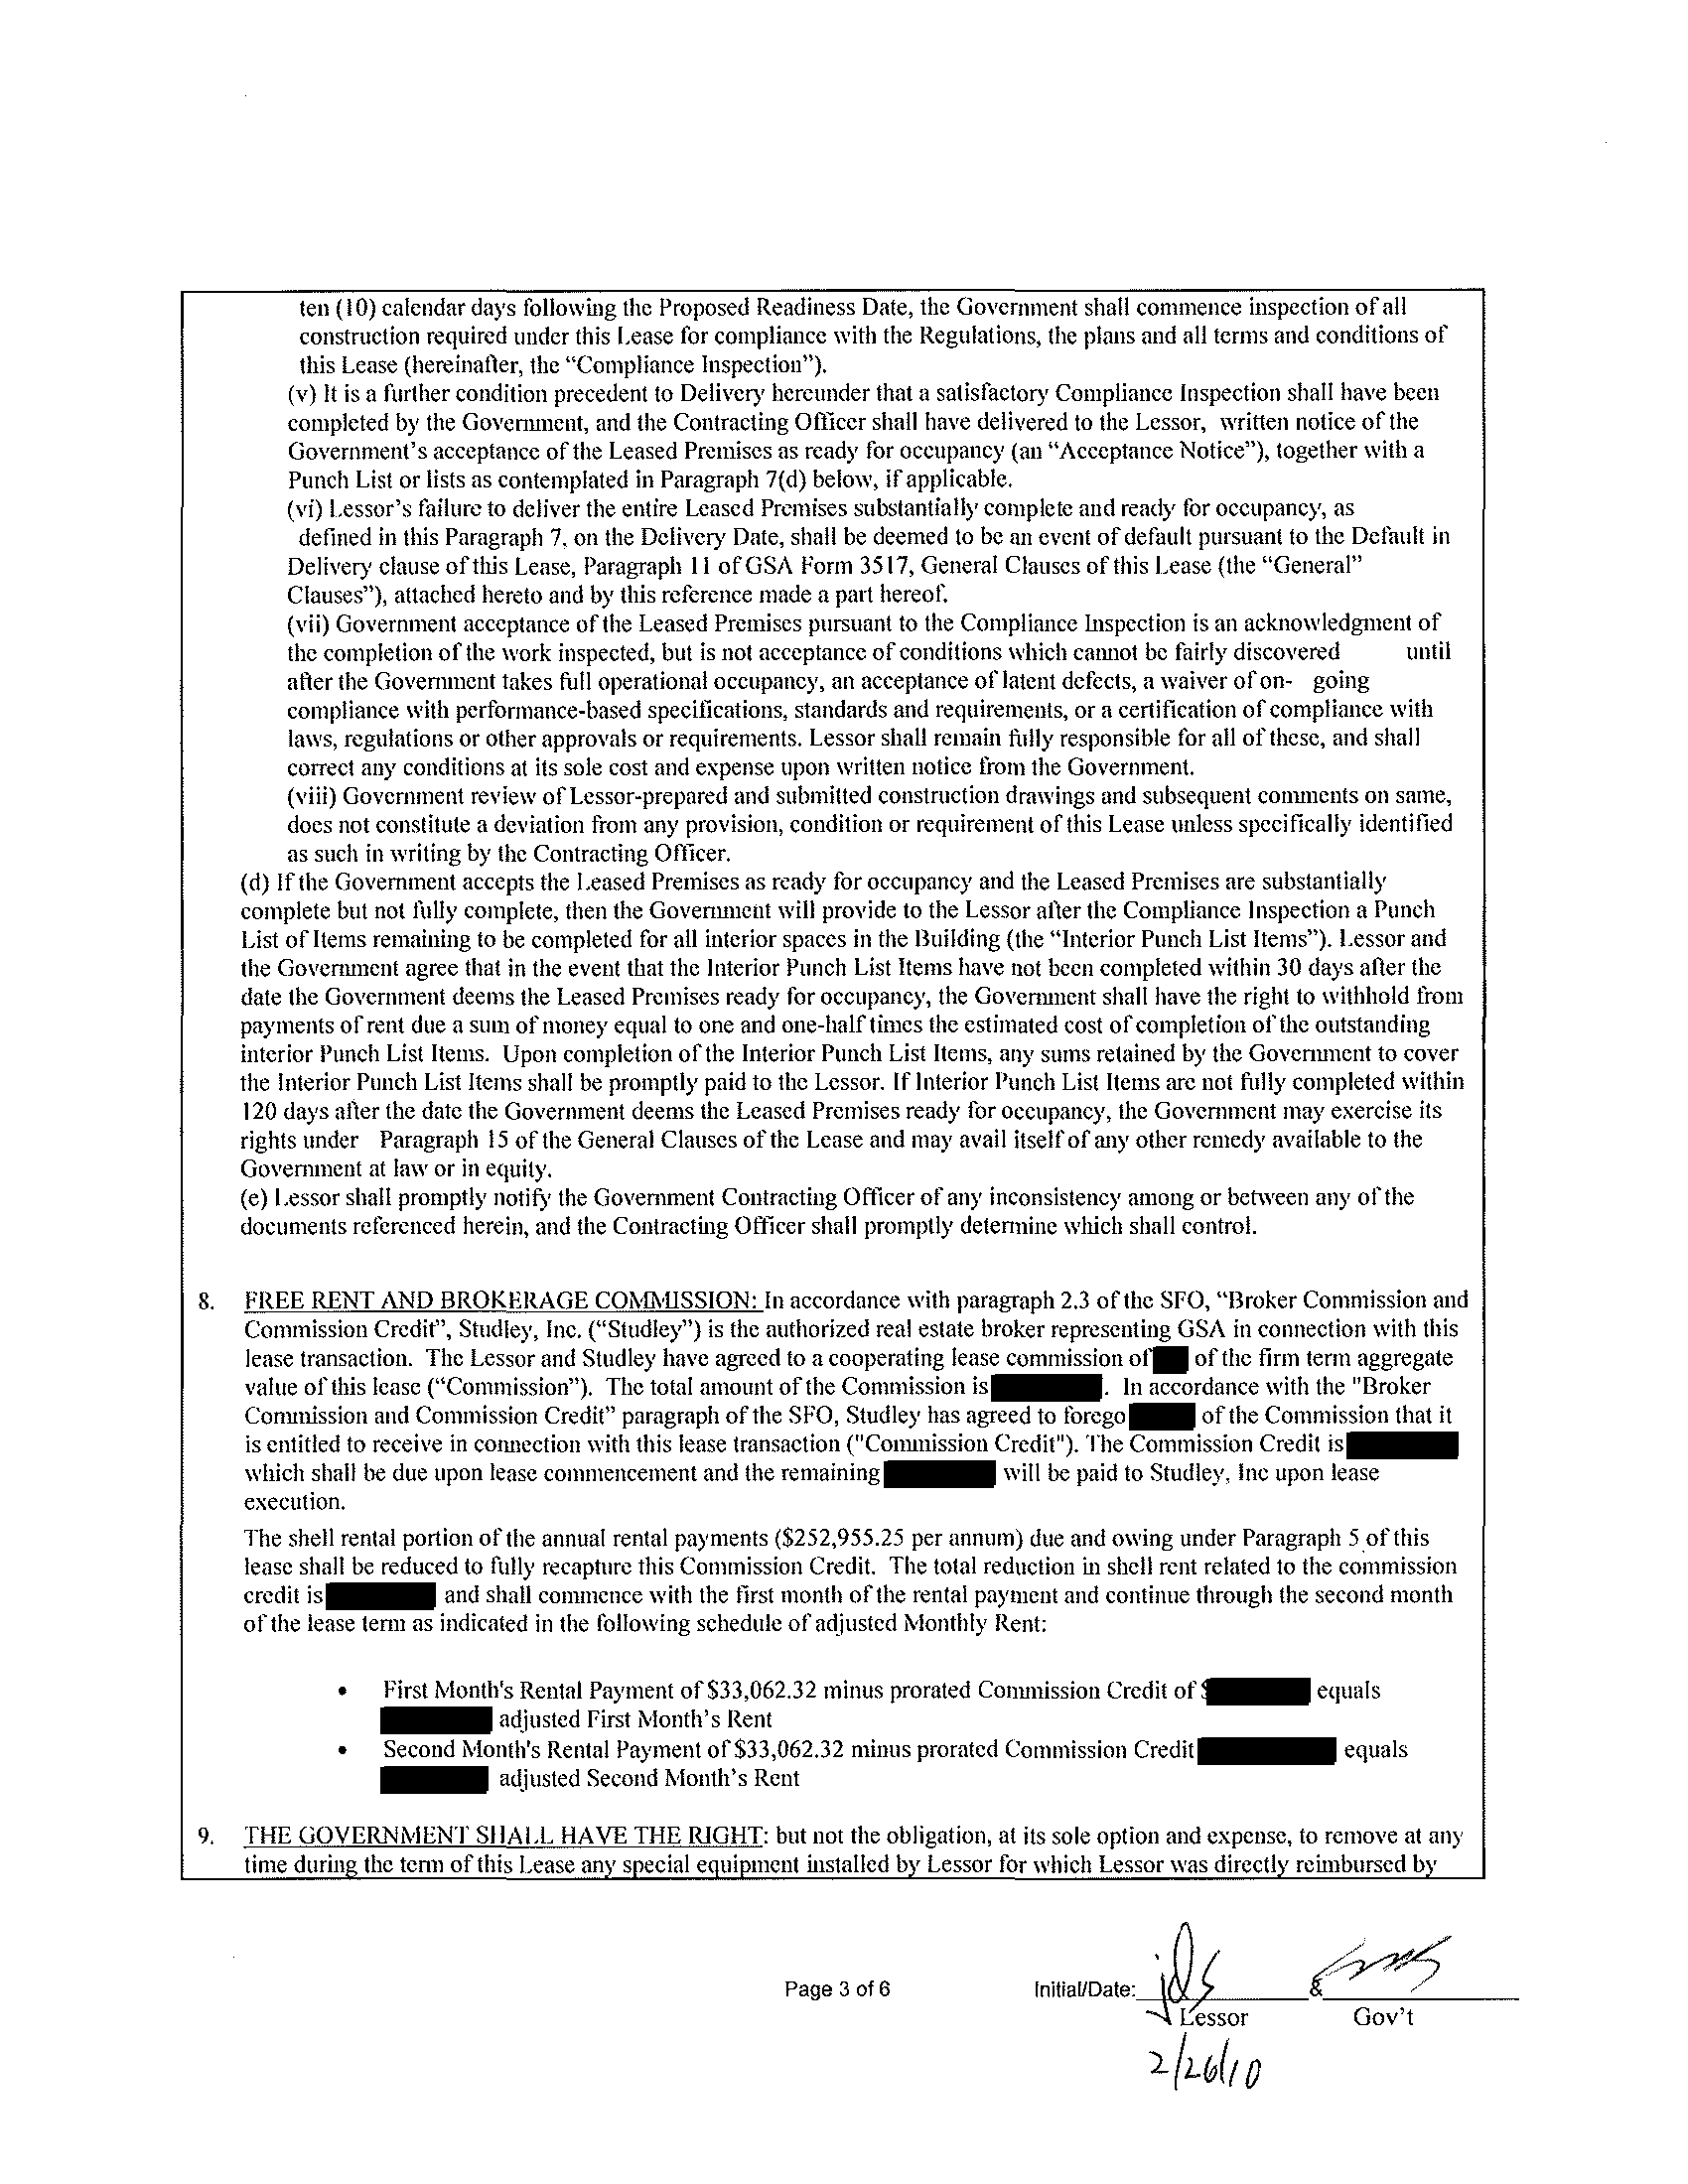handwritten: (1298, 1907, 1491, 2007), (1126, 2033, 1301, 2108), (1138, 1915, 1259, 2014)
